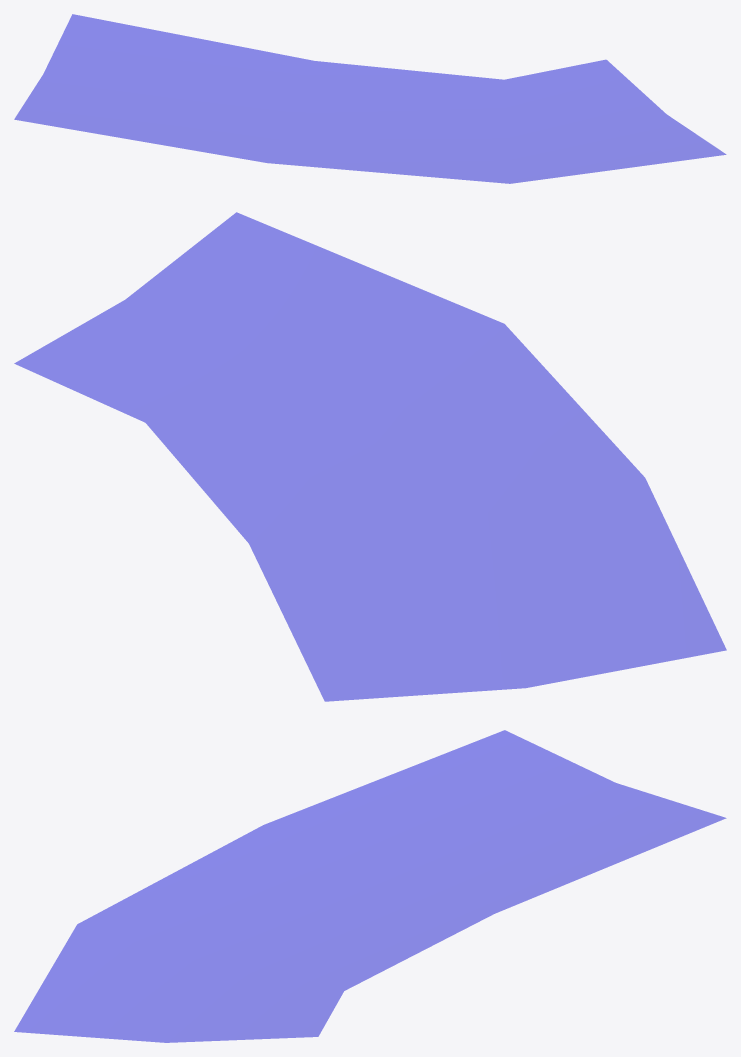
Rendered from track_la_coll_road_15.fbx.
The picture shows the model from 3 angles, top to bottom: view 1: azimuth 30°, elevation 25°; view 2: azimuth 150°, elevation 25°; view 3: azimuth 270°, elevation 25°; orthographic projection. The views are drawn at different scales.
Parts seen in each view (by area): view 1: track_la_coll_road_15; view 2: track_la_coll_road_15; view 3: track_la_coll_road_15.
Part boxes in pixels (bbox=[...]): track_la_coll_road_15: bbox=[14, 14, 726, 183]; track_la_coll_road_15: bbox=[14, 212, 726, 701]; track_la_coll_road_15: bbox=[14, 730, 726, 1042].
Bounding box in the file's own units: 60.45 × 2.11 × 61.19.
